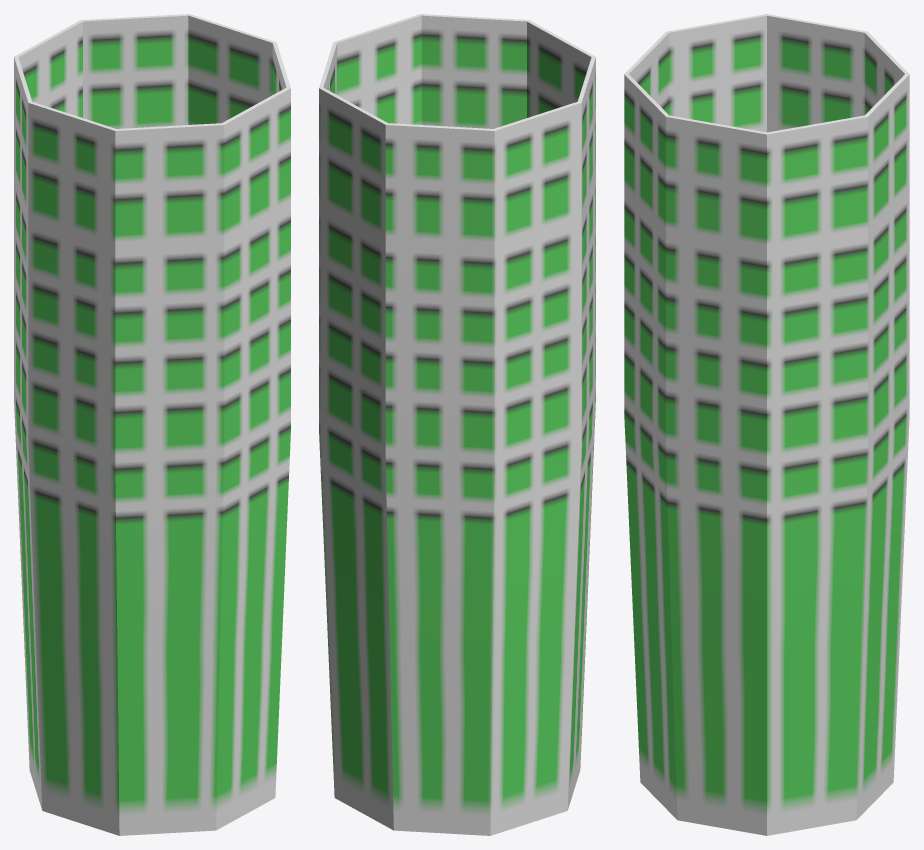
The model's file is JuiceCupAA.fbx.
3 views of the same model, side by side, from view 1: azimuth 30°, elevation 25°; view 2: azimuth 150°, elevation 25°; view 3: azimuth 270°, elevation 25° (orthographic).
Visible parts, largest first — view 1: JuiceCupAA; view 2: JuiceCupAA; view 3: JuiceCupAA.
Boxes of the visible parts, box(x1,y1,x2,y2) form: JuiceCupAA: box(14, 14, 290, 835); JuiceCupAA: box(319, 14, 595, 835); JuiceCupAA: box(624, 14, 909, 835).
Bounding box in the file's own units: 102 × 280 × 102.
